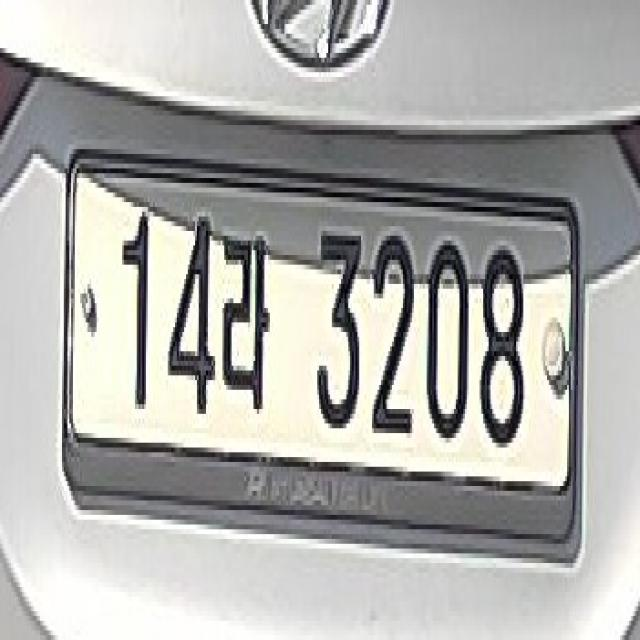0: (421, 231, 474, 447)
1: (115, 192, 159, 424)
2: (368, 226, 418, 443)
3: (312, 221, 368, 438)
4: (164, 202, 219, 424)
8: (476, 241, 529, 452)
la: (221, 226, 275, 419)
license_plate: (59, 140, 586, 578)
